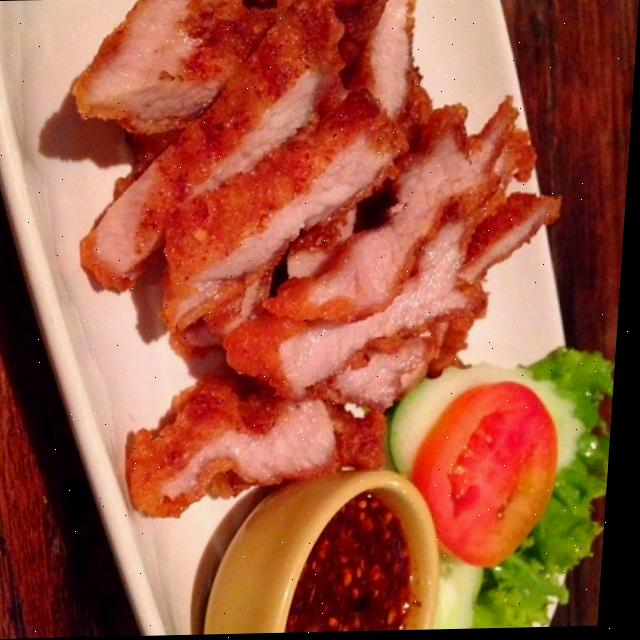猪肉菜式: (20, 22, 607, 630)
